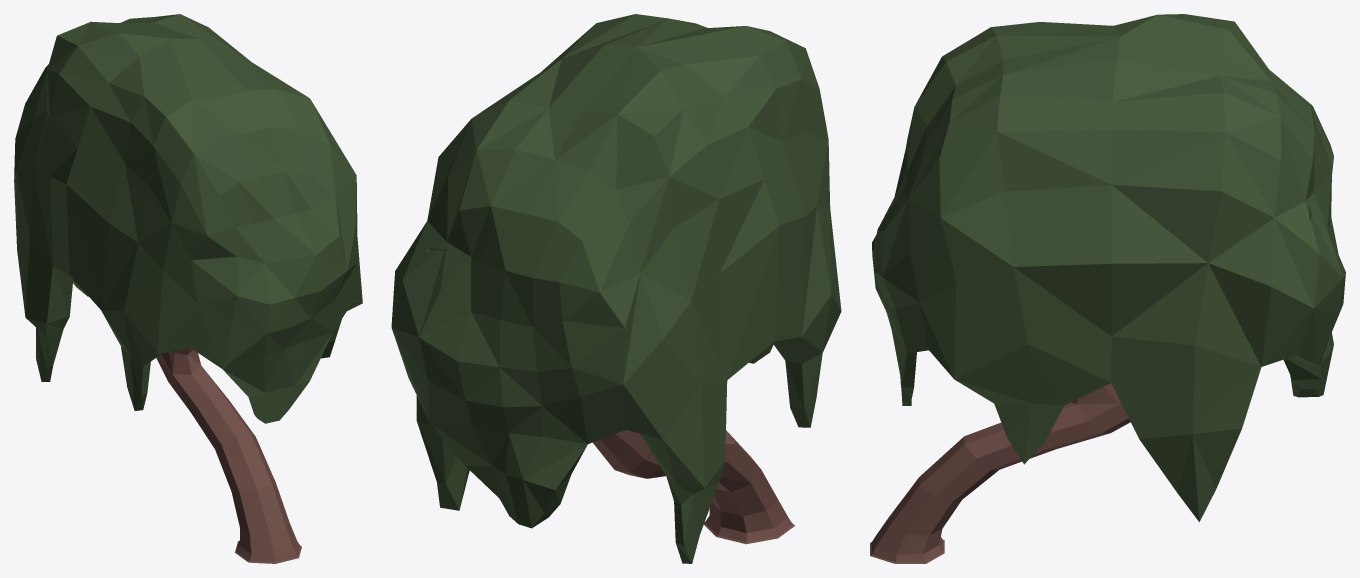
File: Willow_3.glb
3 views of the same model, side by side, from view 1: azimuth 30°, elevation 25°; view 2: azimuth 150°, elevation 25°; view 3: azimuth 270°, elevation 25° (orthographic). The views are drawn at different scales.
Parts seen in each view (by area): view 1: Model; view 2: Model; view 3: Model.
Part boxes in pixels (bbox=[...]): Model: bbox=[14, 14, 362, 563]; Model: bbox=[391, 14, 841, 563]; Model: bbox=[870, 14, 1345, 563].
Bounding box in the file's own units: 132 × 235 × 198.
